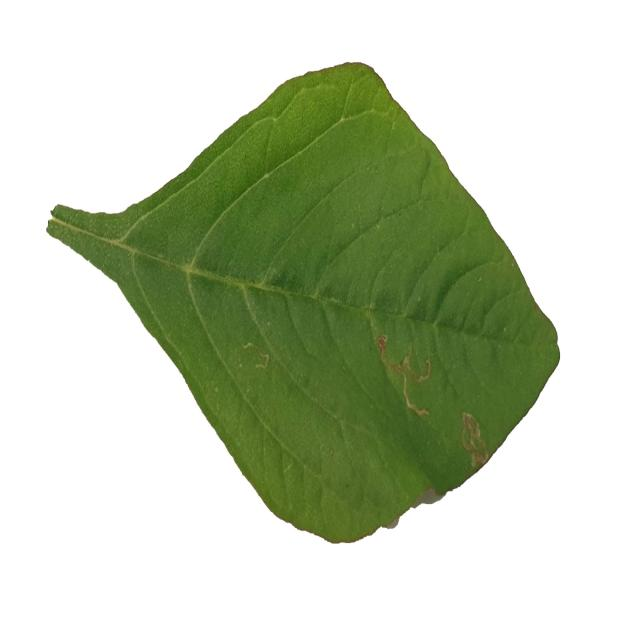Medicinal-Arive Dantu: (43, 63, 559, 553)
